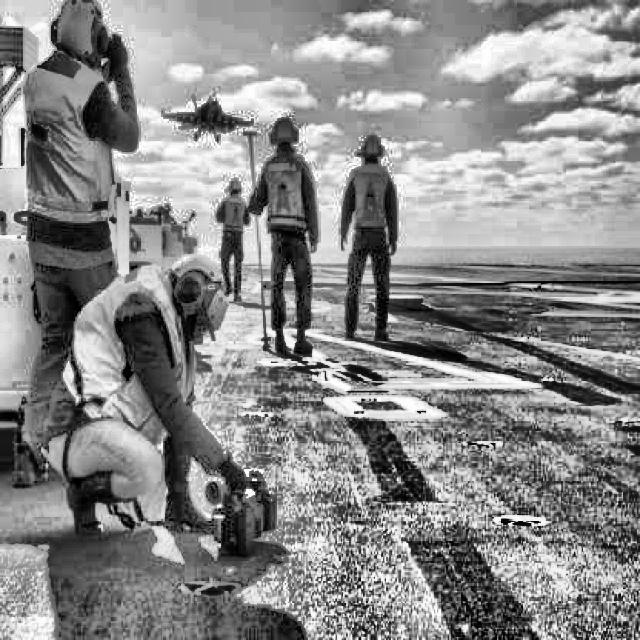F18: (160, 93, 254, 142)
